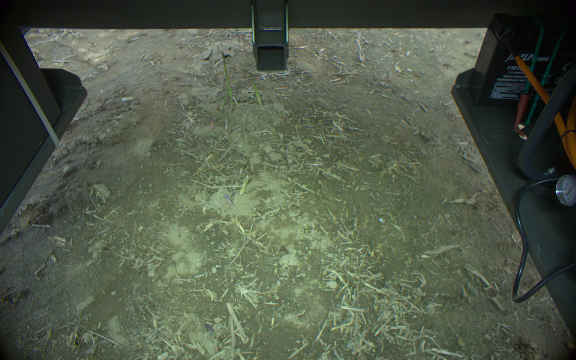aspa: (220, 49, 234, 106), (247, 69, 264, 108), (203, 322, 219, 353), (236, 173, 250, 196), (219, 87, 231, 111)
